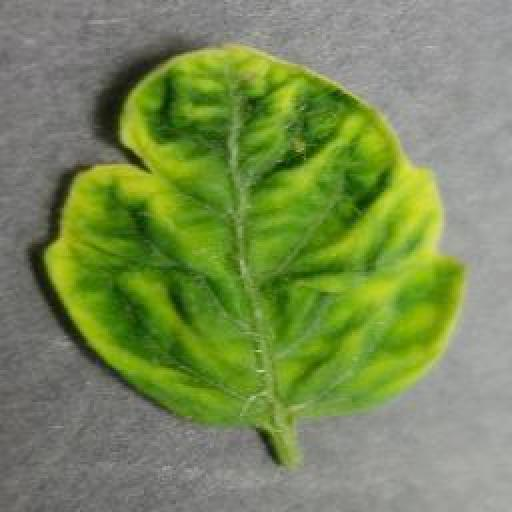disease_tomato: (50, 42, 467, 424)
